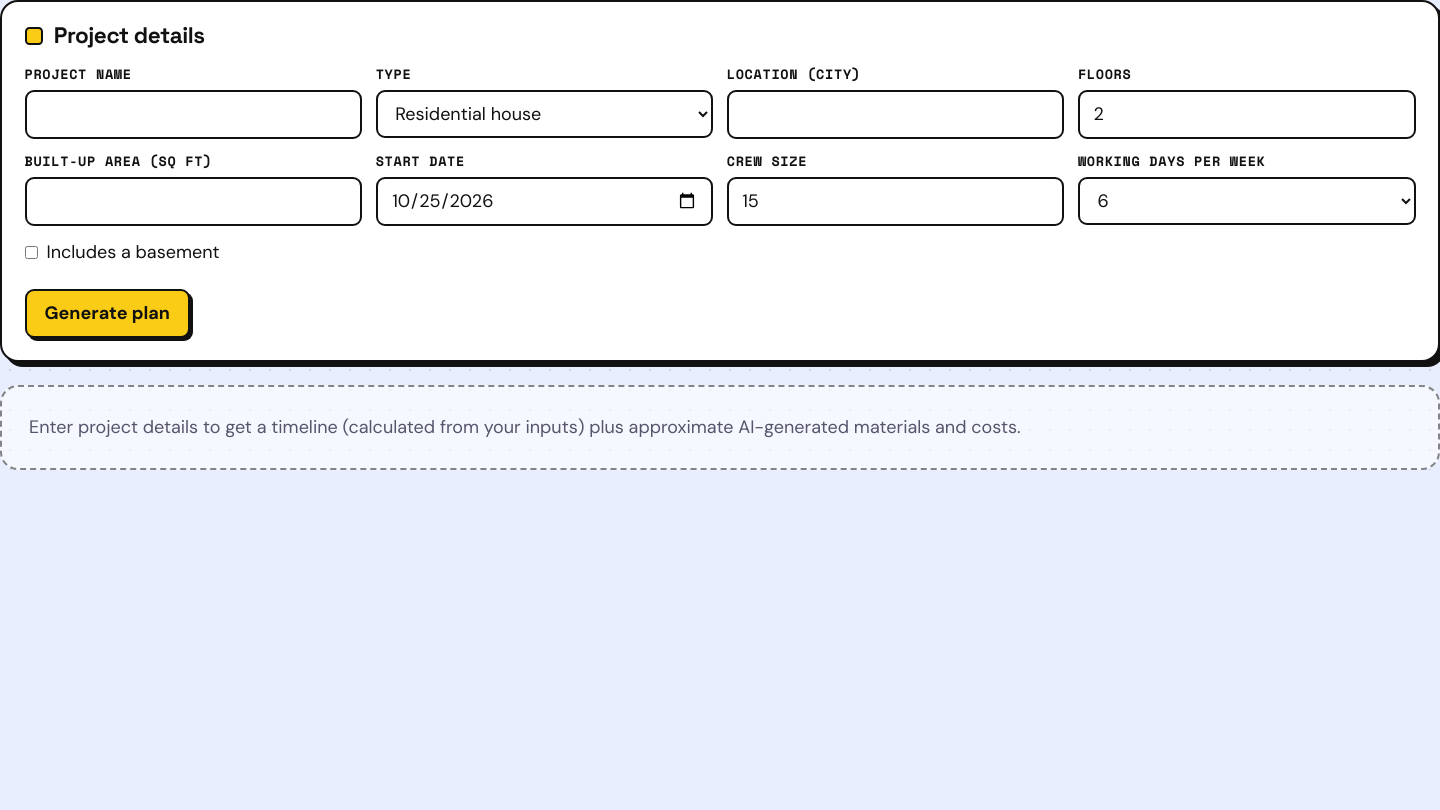
Test: Planning › shows the computed schedule and an explicit notice when AI estimates are missing
Type "House A" into the field labelled "Project name" at (193, 114), box [24,90,362,139]
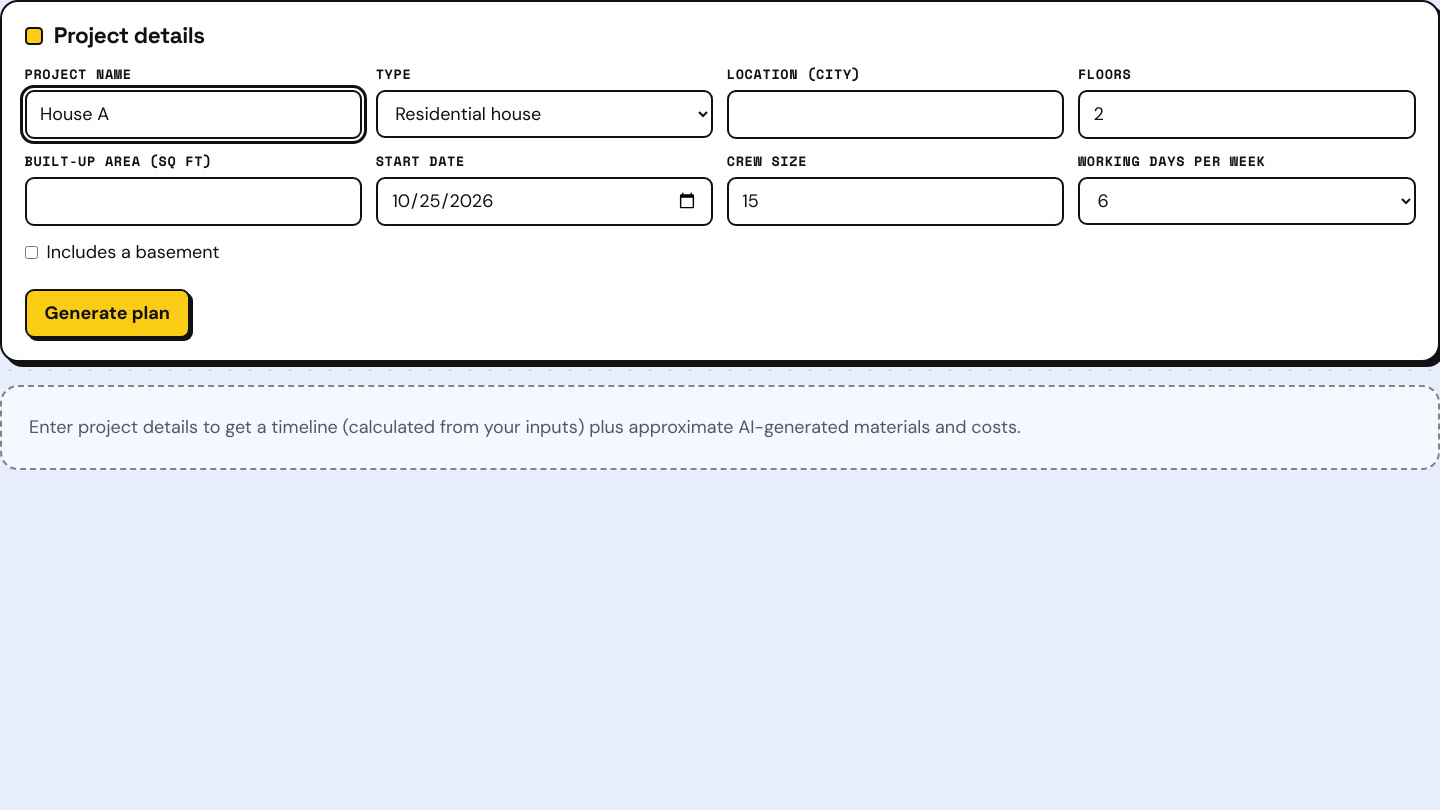
Type "Indore" into the field labelled "Location (city)" at (896, 114), box [727,90,1064,139]
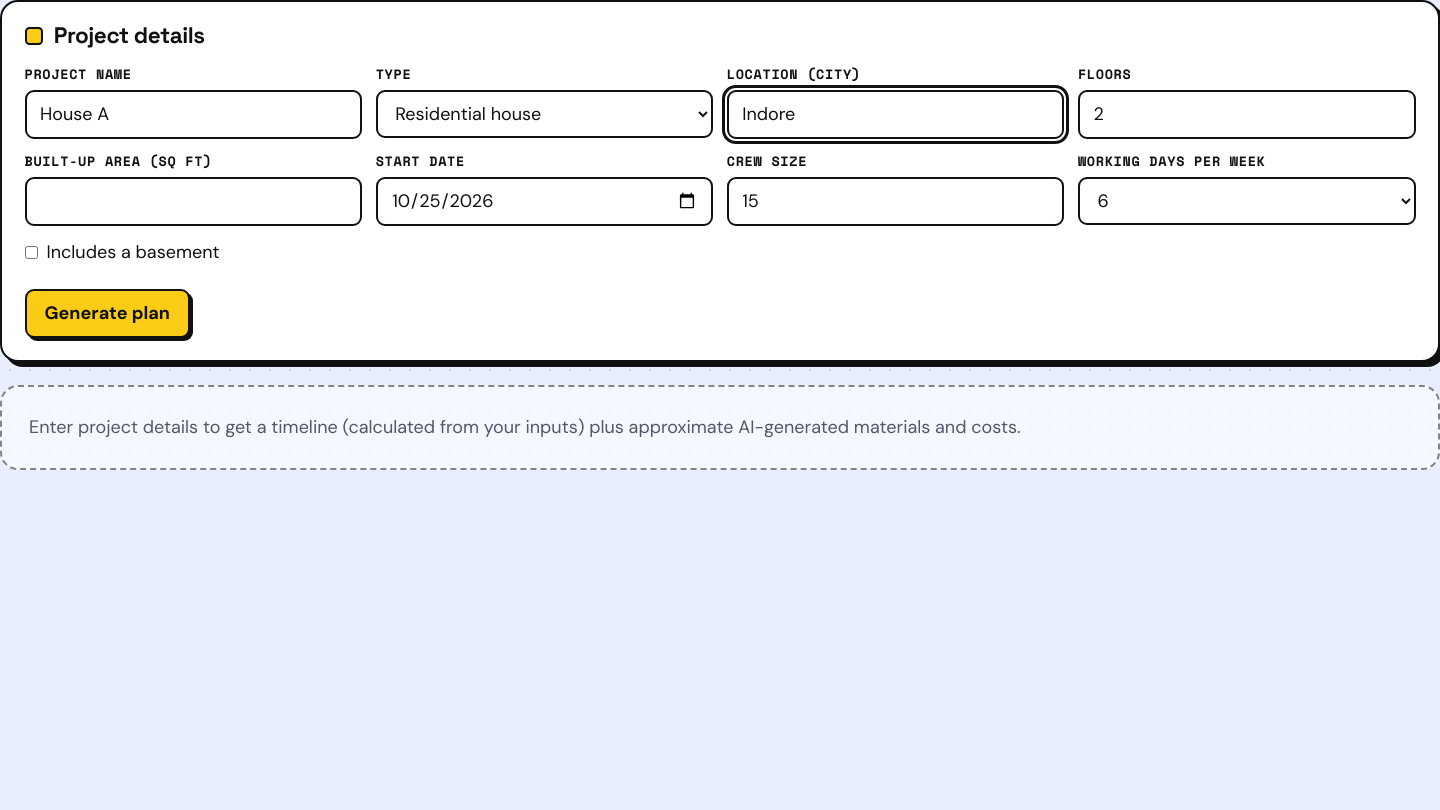
Type "2400" into the number field labelled "Built-up area (sq ft)" at (193, 202), box [24,177,362,226]
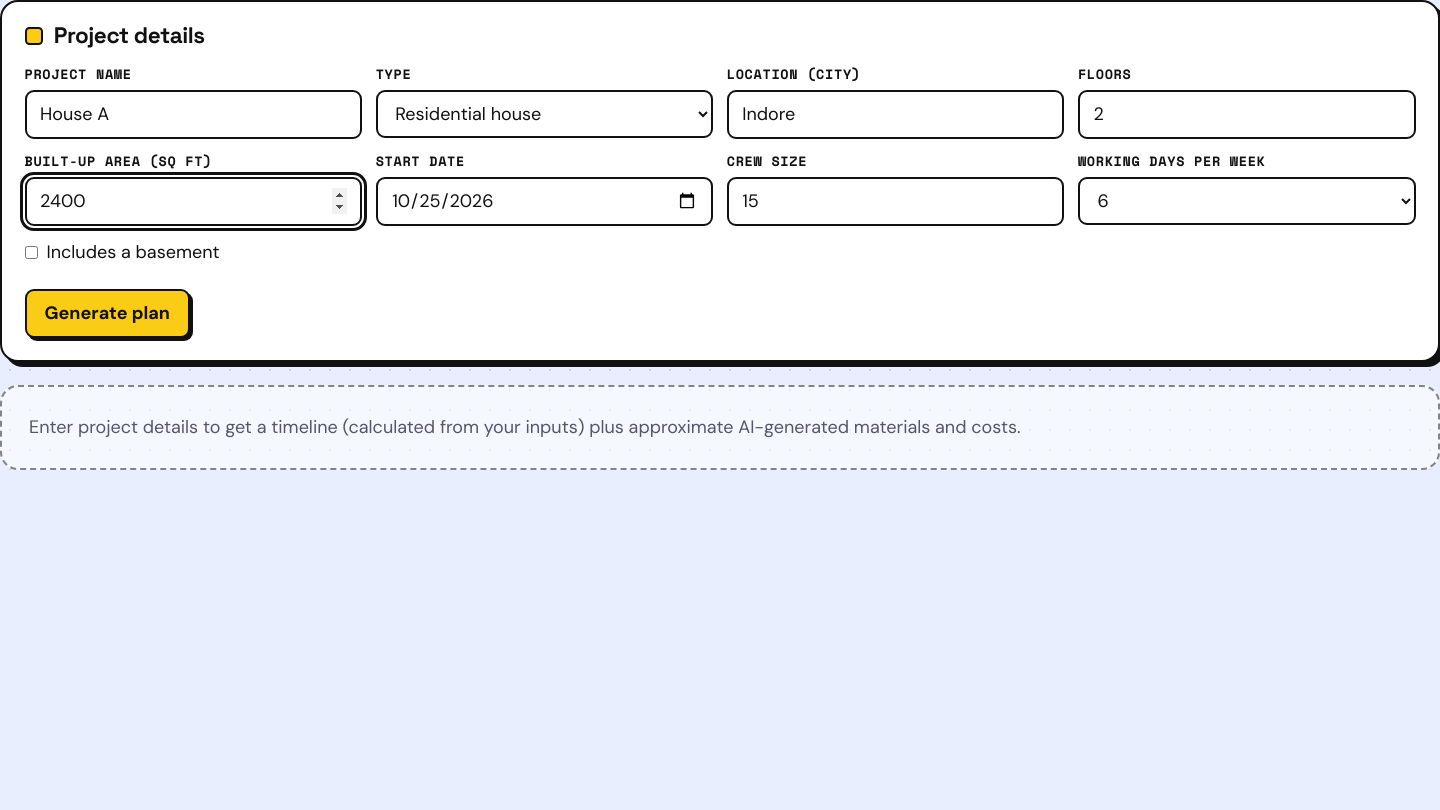
Click the button "Generate plan" at (107, 314), box [24,289,190,338]
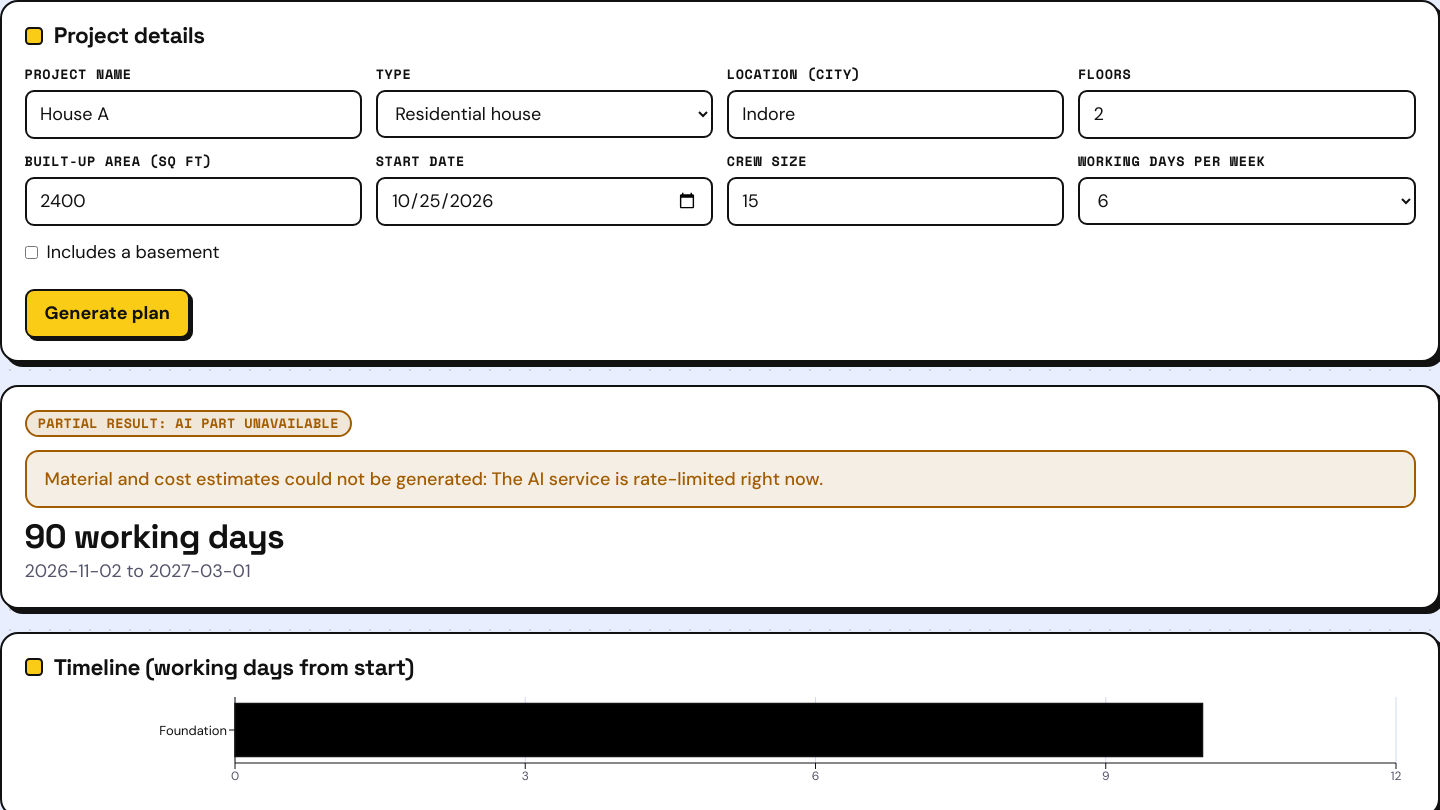
Result: the text "90 working days" is shown at [24,515,284,558]
Result: the text "could not be generated: The AI service is rate-limited" is shown at [44,467,823,491]
